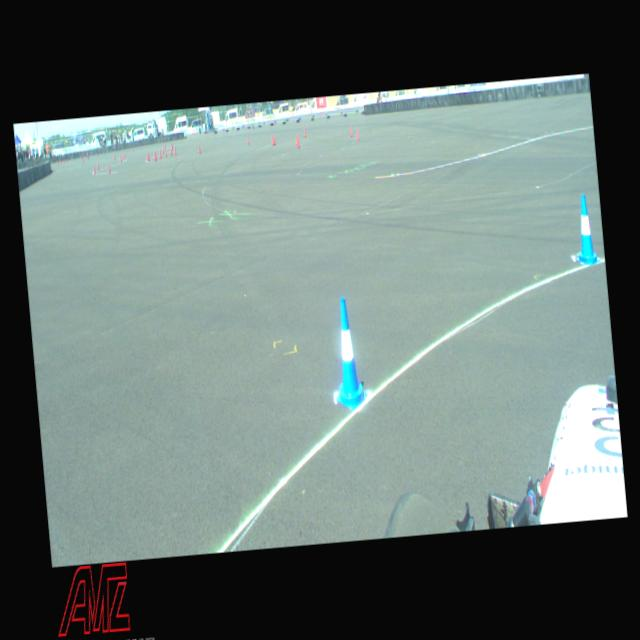blue_cone: (327, 296, 368, 410), (570, 194, 600, 264)
unknown_cone: (355, 128, 359, 140), (297, 135, 300, 148), (349, 125, 352, 136), (272, 134, 275, 145), (303, 127, 306, 137), (247, 135, 250, 144), (173, 147, 176, 155), (107, 164, 110, 172), (271, 134, 273, 145), (295, 134, 297, 144), (198, 144, 200, 154), (164, 150, 167, 156), (147, 152, 149, 161), (96, 162, 98, 170), (170, 148, 172, 156), (171, 142, 173, 150), (159, 150, 161, 158), (154, 152, 156, 160), (93, 165, 95, 173), (161, 147, 163, 154), (146, 152, 148, 159), (153, 152, 155, 158), (164, 142, 165, 148), (120, 156, 120, 162)
